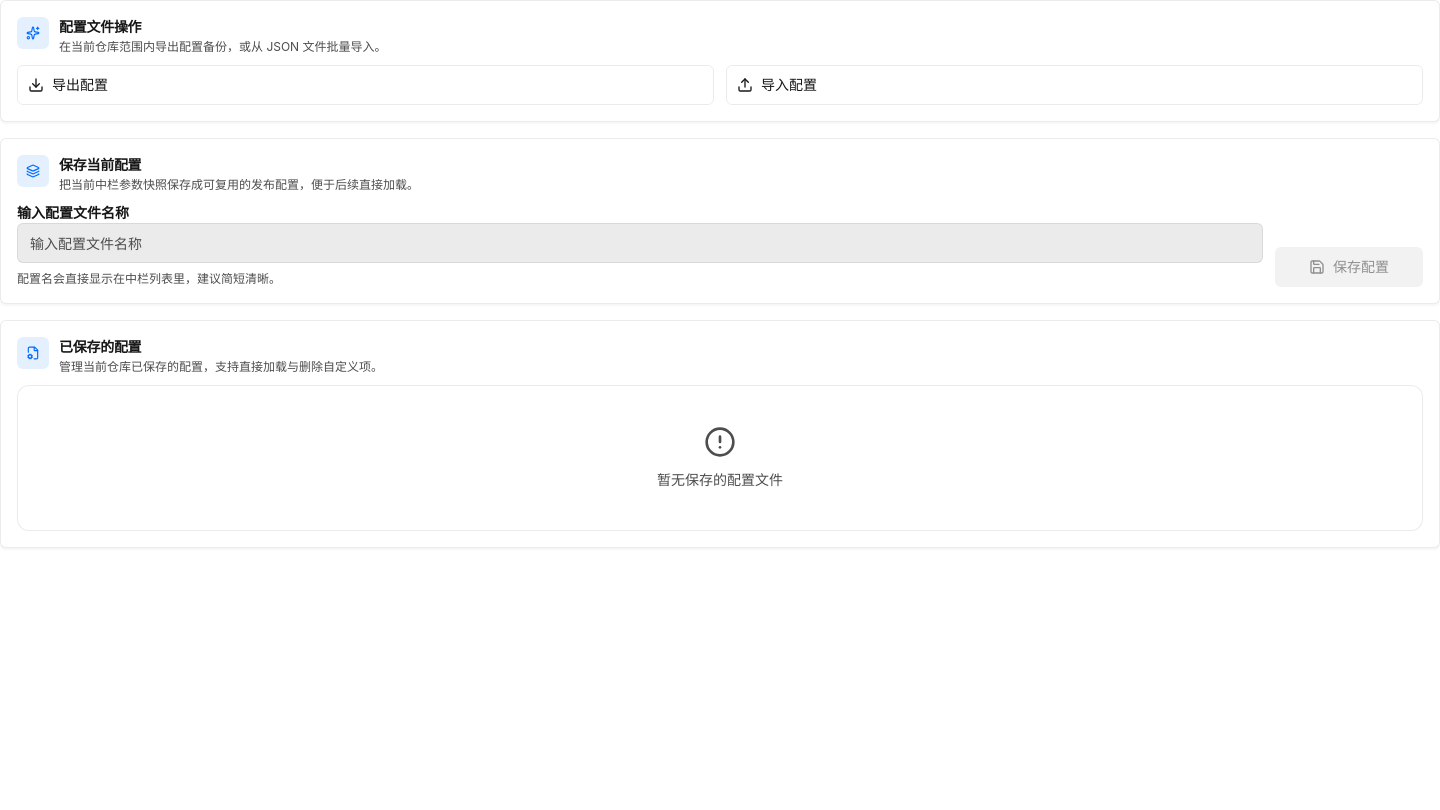
ConfigManagementContent › 全部配置都属于其他 Provider 时禁止确认导入
The width and height of the screenshot is (1440, 810).
Click the button "导入配置": x=789, y=84 [726,65,1423,105]
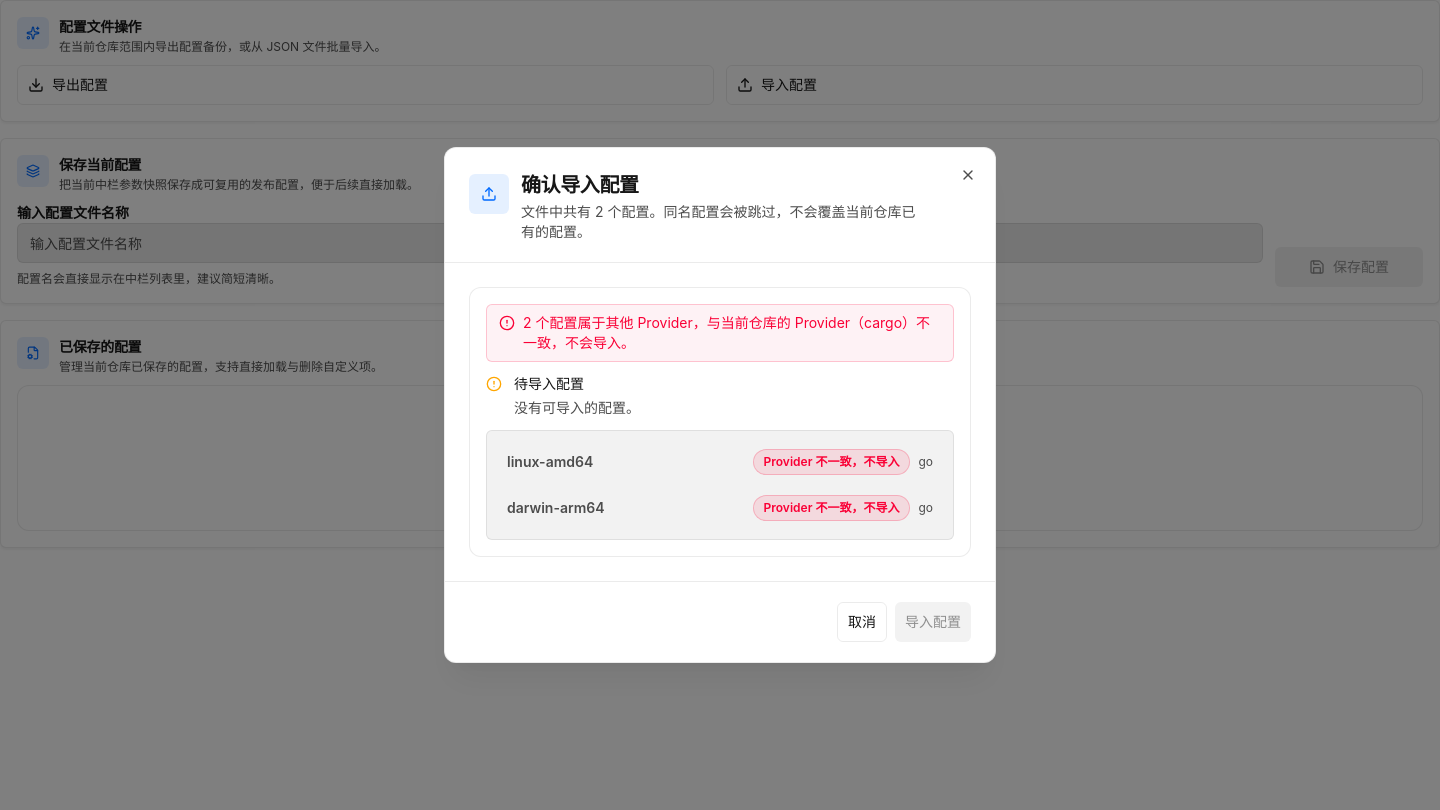
Result: the heading "确认导入配置" is shown at [521,173,639,197]
Result: the message shows "2 个配置属于其他 Provider" at [523,314,930,351]
Result: the text "没有可导入的配置。" is shown at [514,398,640,418]
